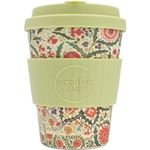cups: (22, 1, 129, 150)
